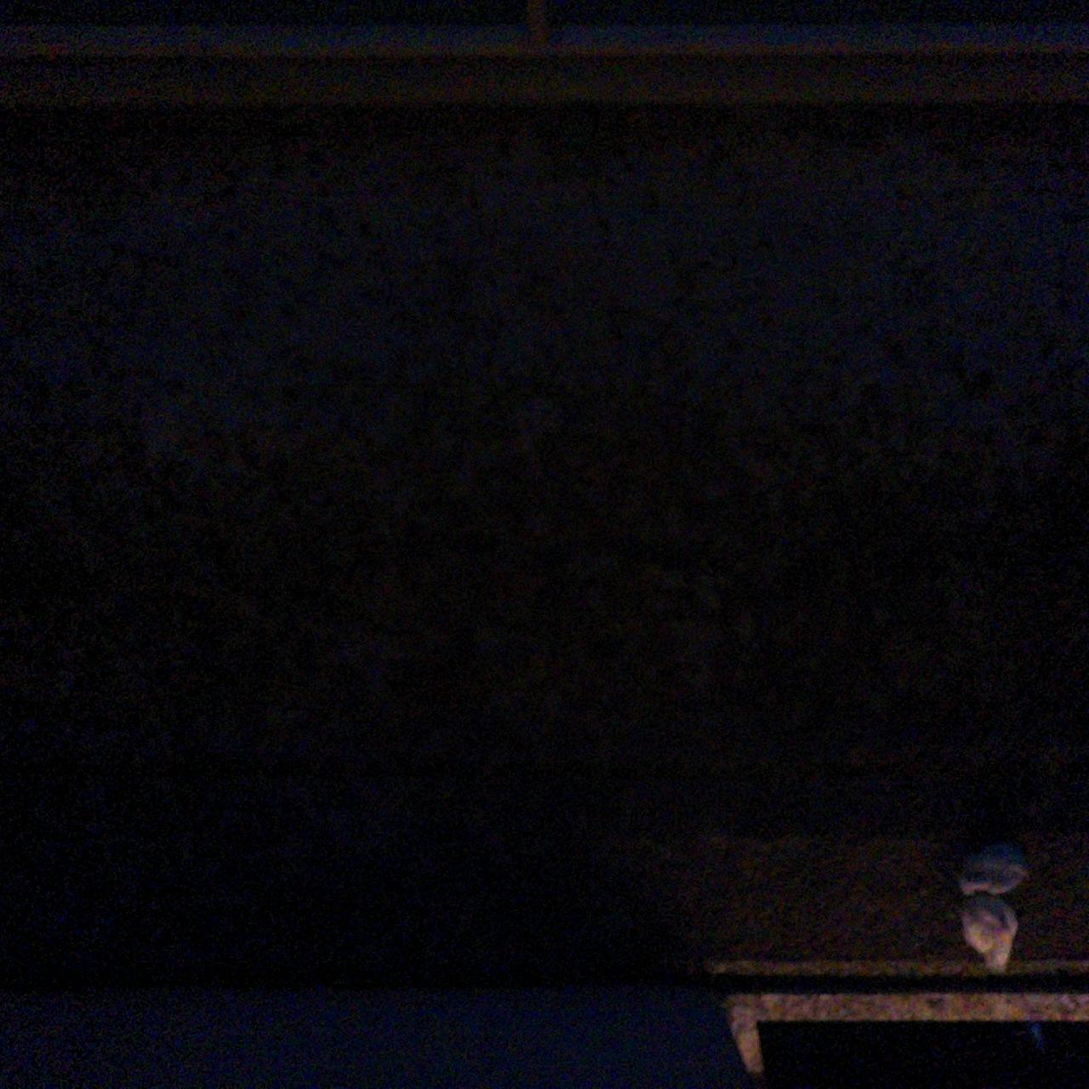chicken: (961, 895, 1021, 985), (955, 836, 1032, 898)
